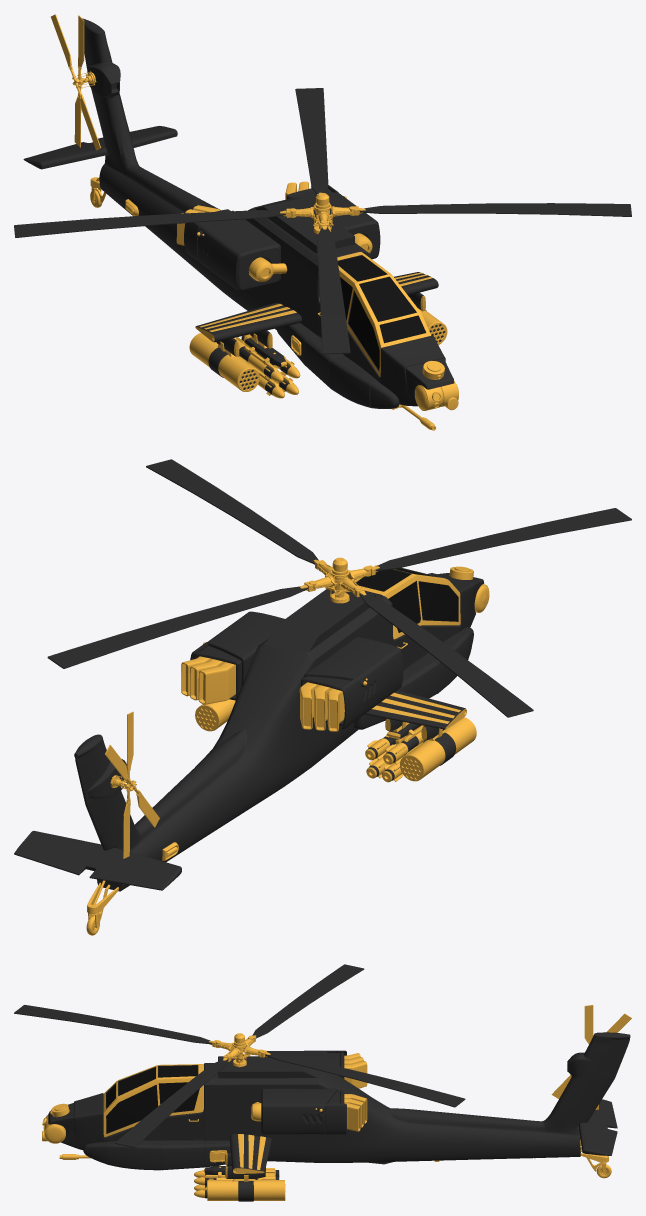
Rendered from helicopter.fbx.
3 renders of one model, top to bottom at view 1: azimuth 30°, elevation 25°; view 2: azimuth 150°, elevation 25°; view 3: azimuth 270°, elevation 25°, orthographic. The views are drawn at different scales.
Visible parts, largest first — view 1: Heli:Body, Heli:Parts, Heli:Top_Blade, Heli:Glass, Heli:Back_R, Heli:Top_R; view 2: Heli:Body, Heli:Top_Blade, Heli:Parts, Heli:Glass, Heli:Back_R, Heli:Top_R; view 3: Heli:Body, Heli:Top_Blade, Heli:Parts, Heli:Glass, Heli:Top_R, Heli:Back_R.
Boxes of the visible parts, x1,y1,x2,y2 form: Heli:Body: (23,18,454,408); Heli:Parts: (90,177,458,430); Heli:Top_Blade: (14,88,631,354); Heli:Glass: (338,256,425,370); Heli:Back_R: (51,14,100,150); Heli:Top_R: (280,192,365,230); Heli:Body: (14,565,483,891); Heli:Top_Blade: (47,459,631,717); Heli:Parts: (86,566,489,935); Heli:Glass: (356,568,457,632); Heli:Back_R: (105,711,159,858); Heli:Top_R: (300,557,379,597); Heli:Body: (48,1032,630,1170); Heli:Top_Blade: (14,964,465,1147); Heli:Parts: (42,1056,611,1201); Heli:Glass: (106,1065,199,1133); Heli:Top_R: (209,1033,270,1062); Heli:Back_R: (551,1005,631,1109).
Bounding box in the file's own units: 10.98 × 4.38 × 15.03.
